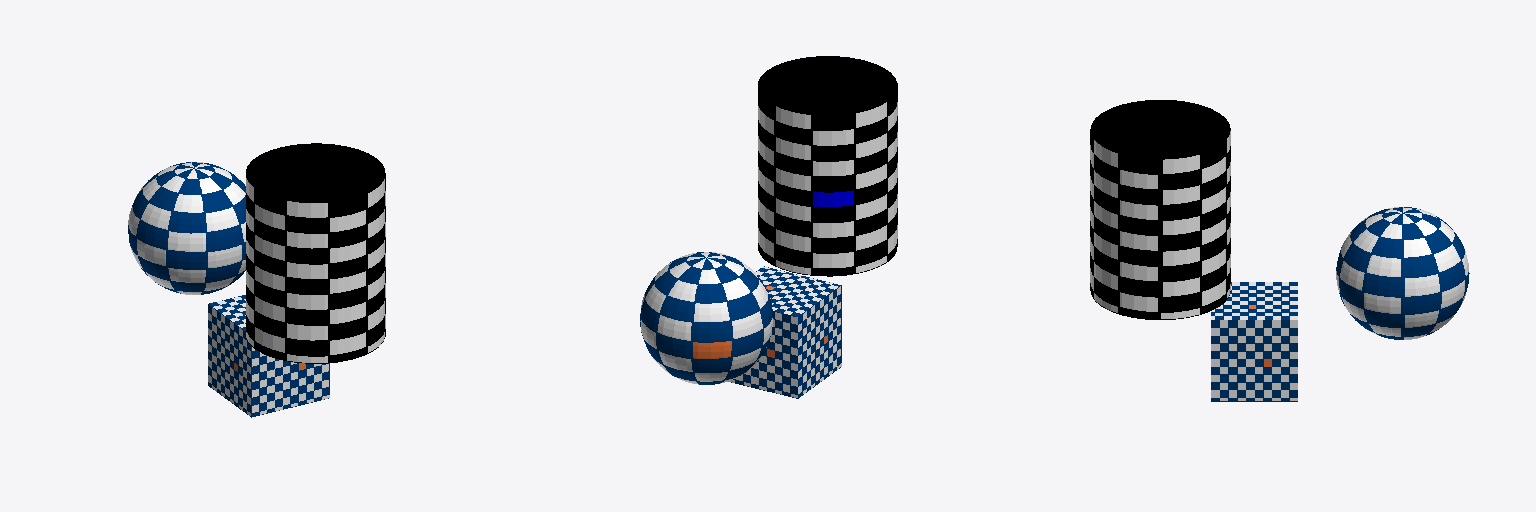
3 views of the same model, side by side, from view 1: azimuth 30°, elevation 25°; view 2: azimuth 150°, elevation 25°; view 3: azimuth 270°, elevation 25° (orthographic).
Visible parts, largest first — view 1: Cylinder02, Sphere01, Box01; view 2: Cylinder02, Sphere01, Box01; view 3: Cylinder02, Sphere01, Box01.
Boxes of the visible parts, x1=… form: Cylinder02: x1=246, y1=143, x2=385, y2=363; Sphere01: x1=128, y1=162, x2=245, y2=294; Box01: x1=208, y1=295, x2=329, y2=417; Cylinder02: x1=758, y1=56, x2=897, y2=276; Sphere01: x1=640, y1=252, x2=772, y2=384; Box01: x1=728, y1=266, x2=841, y2=398; Cylinder02: x1=1090, y1=100, x2=1230, y2=319; Sphere01: x1=1336, y1=207, x2=1469, y2=339; Box01: x1=1211, y1=282, x2=1297, y2=401.
Size of the model in its own units: 37 by 73.8 by 100.
Materials: 3 (2 with a texture image).